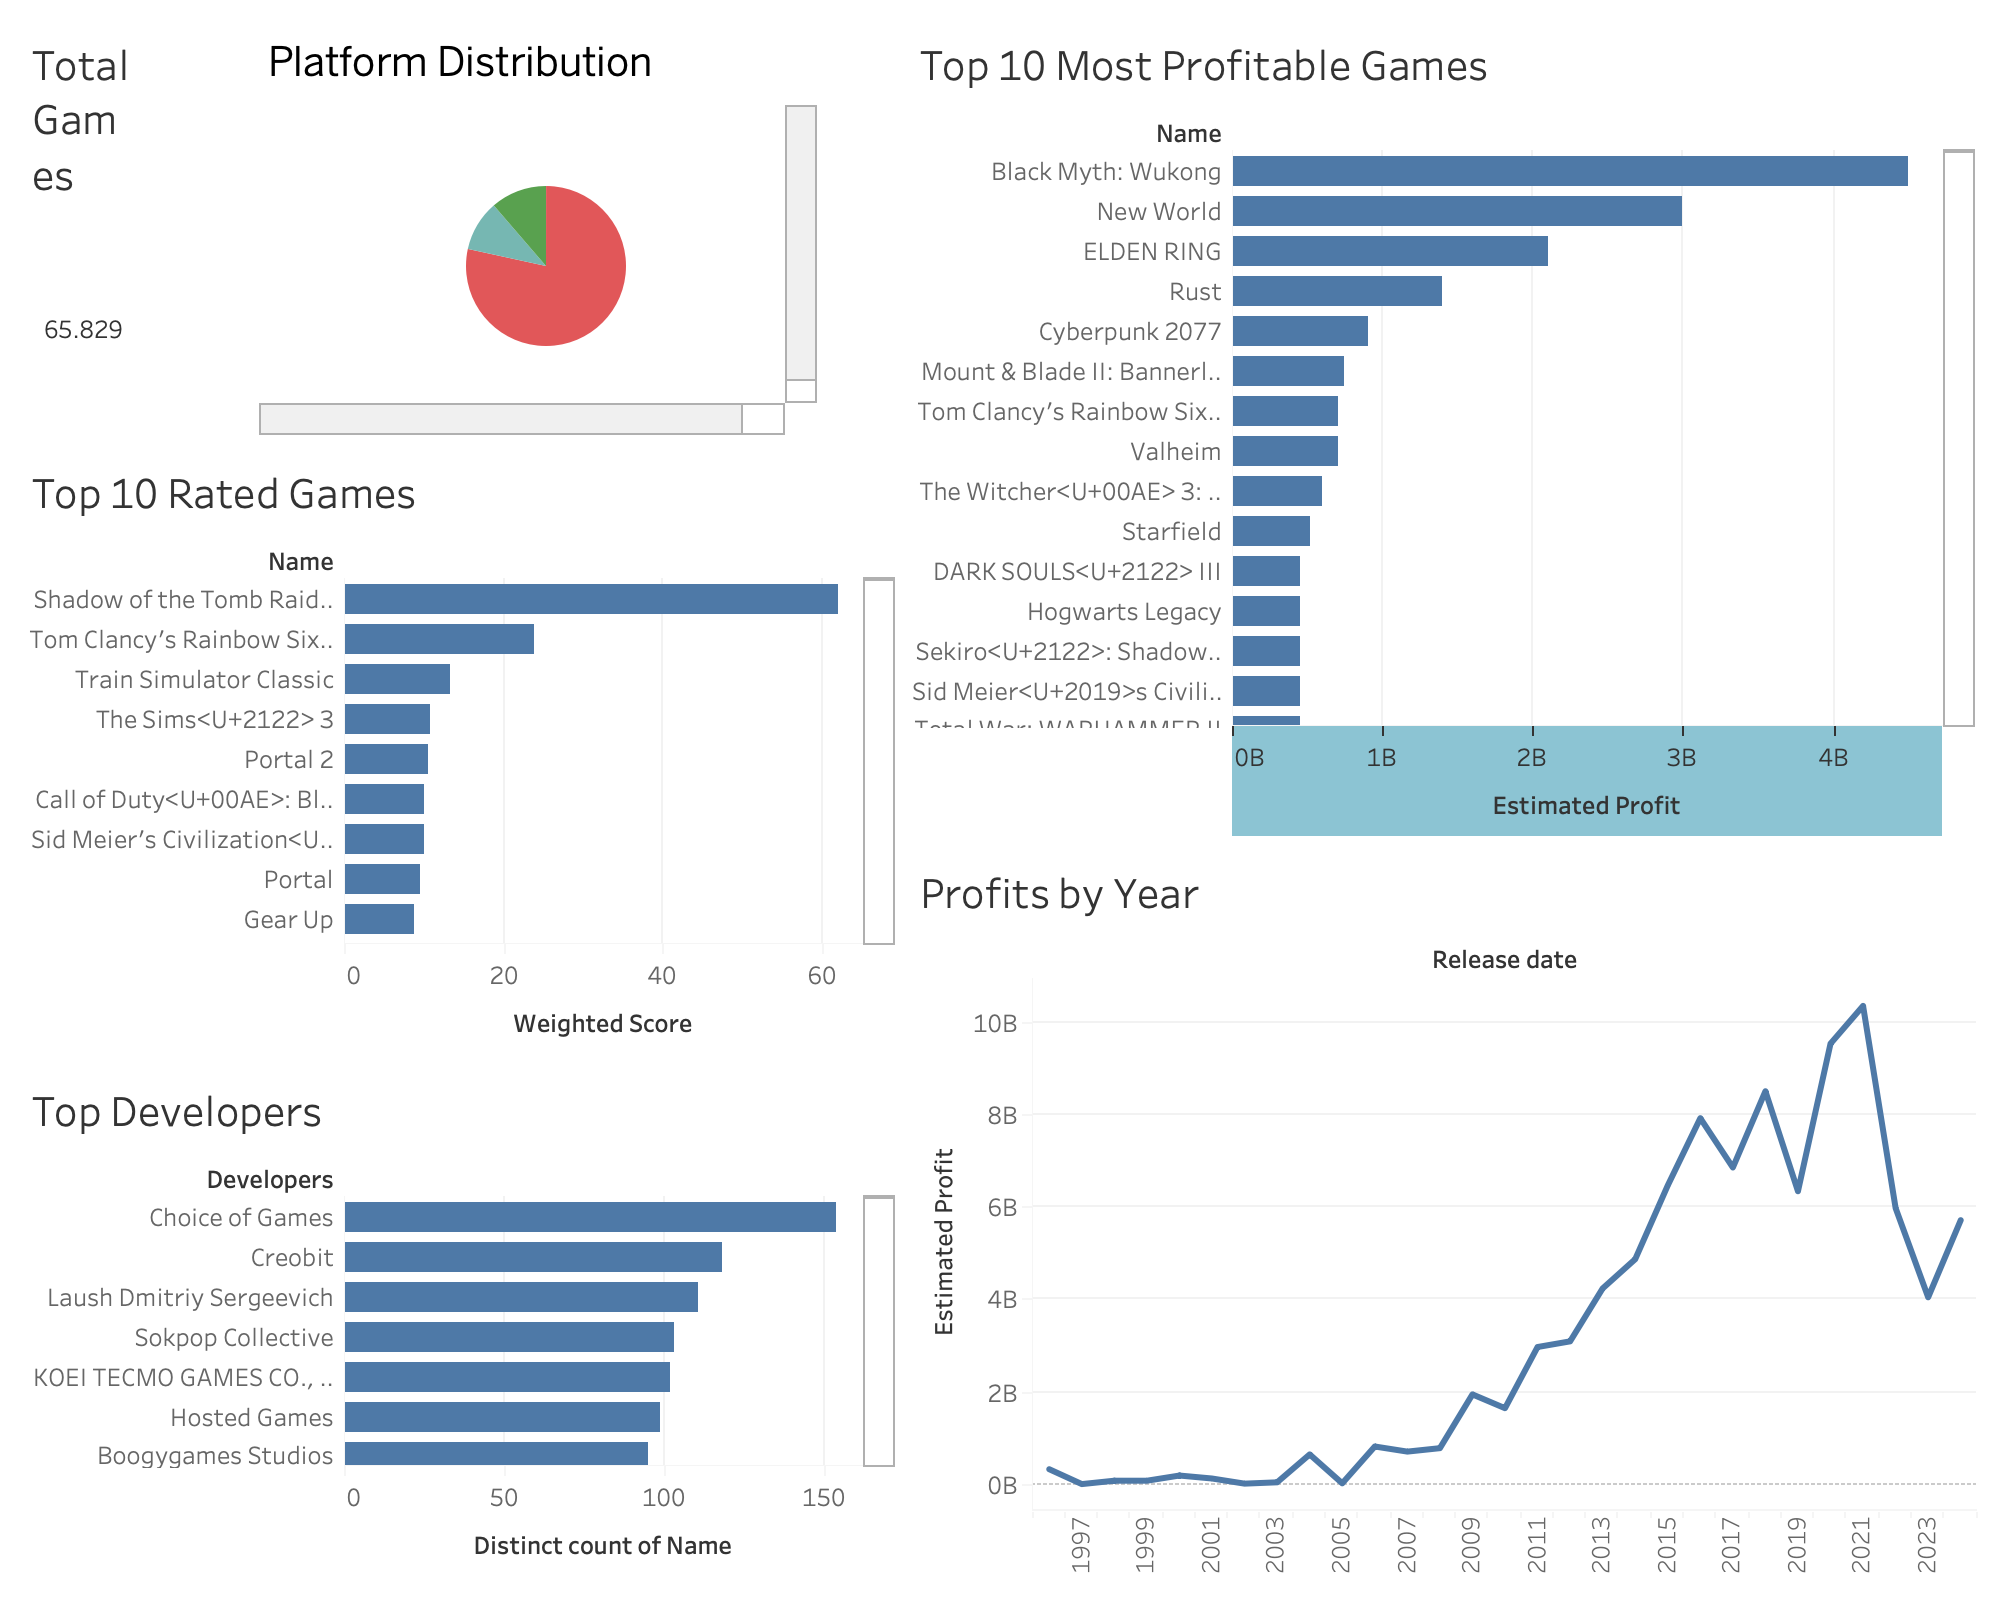

Layout of this report page (visuals, bound fields, positions):
{"tool":"tableau","page":{"name":"Dashboard 1","canvas":[1000,800],"ordinal":0},"visuals":[{"type":"worksheet","title":"Total Games","mark":"Text","box":[8,8,118,214]},{"type":"worksheet","title":"Platform Distribution","mark":"Pie","box":[126,8,287,214]},{"type":"worksheet","title":"Top 10 Most Profitable Games","mark":"Bar","rows":["Name"],"cols":["Calculation_1915437251755339781"],"box":[452,8,540,414]},{"type":"worksheet","title":"Top 10 Rated Games","mark":"Automatic","rows":["Name"],"cols":["Calculation_1915437251762933769"],"box":[8,222,444,308.7]},{"type":"worksheet","title":"Profits by Year","mark":"Automatic","rows":["Calculation_1915437251755339781"],"cols":["Release date"],"box":[452,422,540,370]},{"type":"worksheet","title":"Top Developers","mark":"Automatic","rows":["Developers"],"cols":["Name"],"box":[8,530.7,444,261.3]}]}

Visuals, with their boxes in screenshot pixels (x1, y1, x2, y2), scaled from the page's 1000x800 canvas onto the 2000x1600 screenshot:
"Total Games" worksheet (Text marks): bbox(16, 16, 252, 444)
"Platform Distribution" worksheet (Pie marks): bbox(252, 16, 826, 444)
"Top 10 Most Profitable Games" worksheet (Bar marks): bbox(904, 16, 1984, 844)
"Top 10 Rated Games" worksheet: bbox(16, 444, 904, 1061)
"Profits by Year" worksheet: bbox(904, 844, 1984, 1584)
"Top Developers" worksheet: bbox(16, 1061, 904, 1584)
